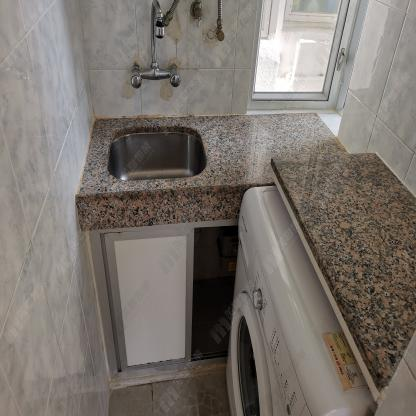Faucet: (131, 0, 184, 101)
Sink: (78, 113, 236, 195)
Washing Machine: (222, 182, 375, 416)
